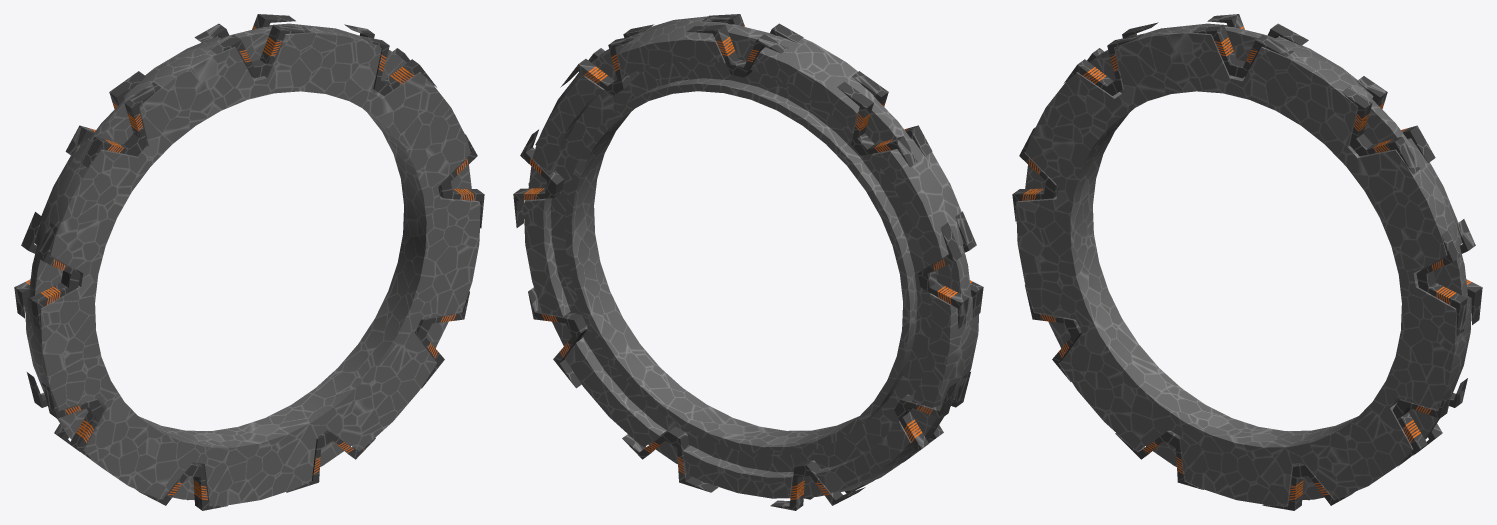
File: Gate_Frame.glb
3 views of the same model, side by side, from view 1: azimuth 30°, elevation 25°; view 2: azimuth 150°, elevation 25°; view 3: azimuth 330°, elevation 25° (orthographic).
Visible parts, largest first — view 1: Gate_Hull, Chevron_Frame.008, Chevron_Frame.007, Chevron_Frame, Chevron_Frame.006, Chevron_Frame.001, Chevron_Frame.005, Chevron_Frame.002, Chevron_Frame.003, Chevron_Frame.004; view 2: Gate_Hull, Chevron_Frame.008, Chevron_Frame.007, Chevron_Frame, Chevron_Frame.006, Chevron_Frame.001, Chevron_Frame.002, Chevron_Frame.005, Chevron_Frame.003, Chevron_Frame.004; view 3: Gate_Hull, Chevron_Frame.001, Chevron_Frame.002, Chevron_Frame, Chevron_Frame.003, Chevron_Frame.008, Chevron_Frame.004, Chevron_Frame.007, Chevron_Frame.006, Chevron_Frame.005.
Boxes of the visible parts, x1=… form: Gate_Hull: x1=25, y1=23, x2=480, y2=505; Chevron_Frame.008: x1=65, y1=71, x2=160, y2=167; Chevron_Frame.007: x1=14, y1=212, x2=80, y2=329; Chevron_Frame: x1=194, y1=14, x2=310, y2=78; Chevron_Frame.006: x1=27, y1=372, x2=104, y2=461; Chevron_Frame.001: x1=344, y1=24, x2=436, y2=95; Chevron_Frame.005: x1=135, y1=462, x2=227, y2=510; Chevron_Frame.002: x1=438, y1=134, x2=484, y2=228; Chevron_Frame.003: x1=415, y1=291, x2=469, y2=388; Chevron_Frame.004: x1=286, y1=430, x2=375, y2=492; Gate_Hull: x1=524, y1=16, x2=978, y2=498; Chevron_Frame.008: x1=837, y1=71, x2=932, y2=167; Chevron_Frame.007: x1=918, y1=211, x2=983, y2=328; Chevron_Frame: x1=687, y1=14, x2=803, y2=77; Chevron_Frame.006: x1=894, y1=372, x2=970, y2=462; Chevron_Frame.001: x1=560, y1=24, x2=653, y2=95; Chevron_Frame.002: x1=513, y1=129, x2=564, y2=227; Chevron_Frame.005: x1=770, y1=460, x2=874, y2=510; Chevron_Frame.003: x1=528, y1=287, x2=587, y2=388; Chevron_Frame.004: x1=622, y1=426, x2=718, y2=492; Gate_Hull: x1=1016, y1=23, x2=1471, y2=505; Chevron_Frame.001: x1=1341, y1=76, x2=1435, y2=174; Chevron_Frame.002: x1=1416, y1=219, x2=1482, y2=335; Chevron_Frame: x1=1192, y1=14, x2=1308, y2=78; Chevron_Frame.003: x1=1392, y1=378, x2=1467, y2=466; Chevron_Frame.008: x1=1064, y1=22, x2=1158, y2=95; Chevron_Frame.004: x1=1262, y1=462, x2=1355, y2=510; Chevron_Frame.007: x1=1012, y1=127, x2=1058, y2=221; Chevron_Frame.006: x1=1025, y1=284, x2=1081, y2=381; Chevron_Frame.005: x1=1115, y1=430, x2=1203, y2=489.
Size of the model in its own units: 6.92 by 6.86 by 0.6.
Materials: 2 (2 with a texture image).
